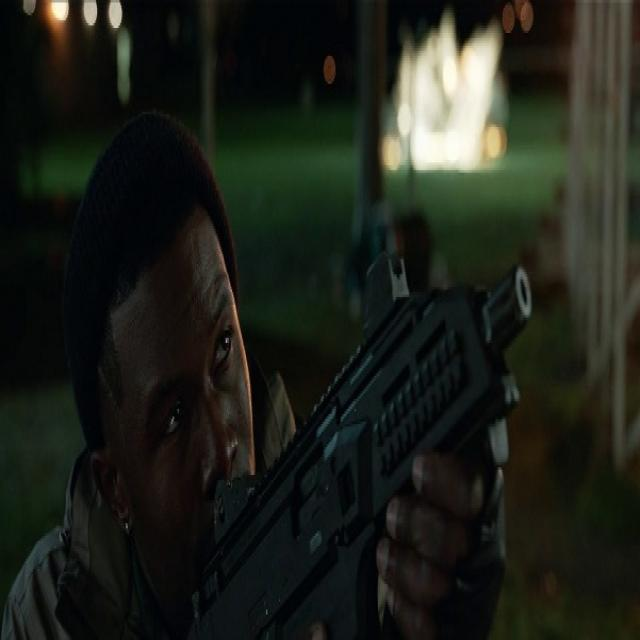rifle: (178, 217, 537, 640)
